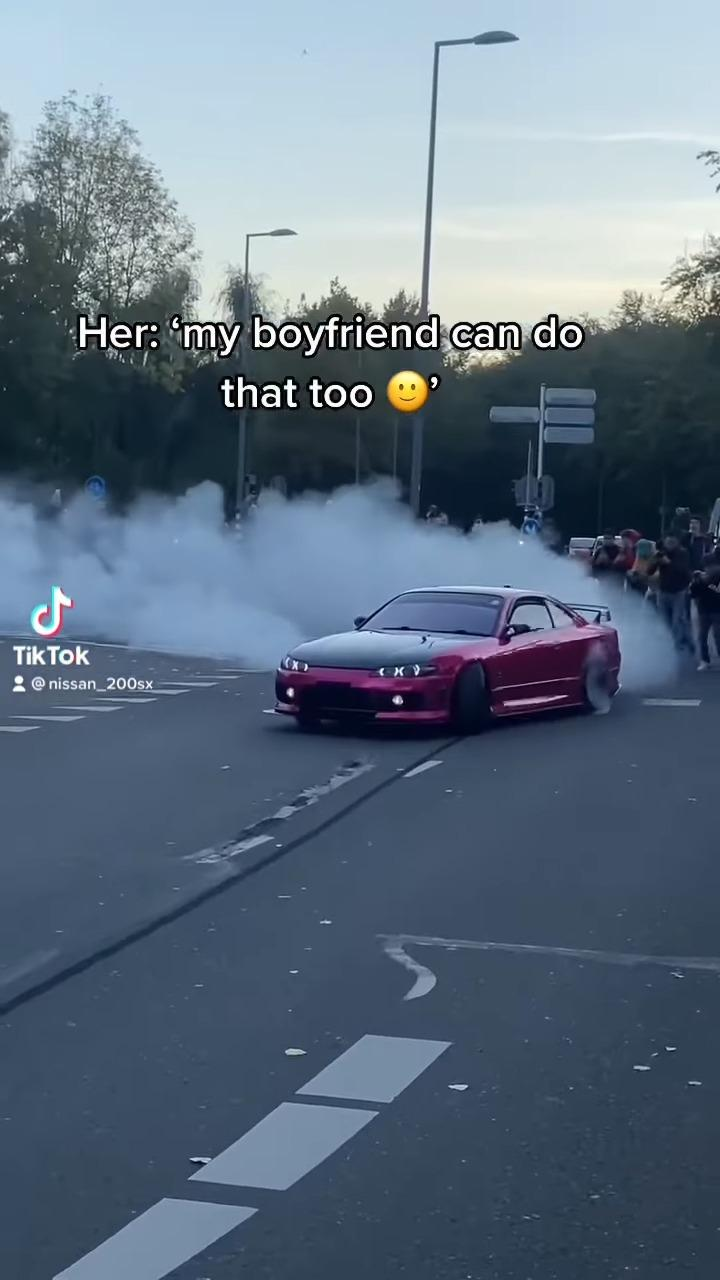car: (267, 583, 625, 745)
